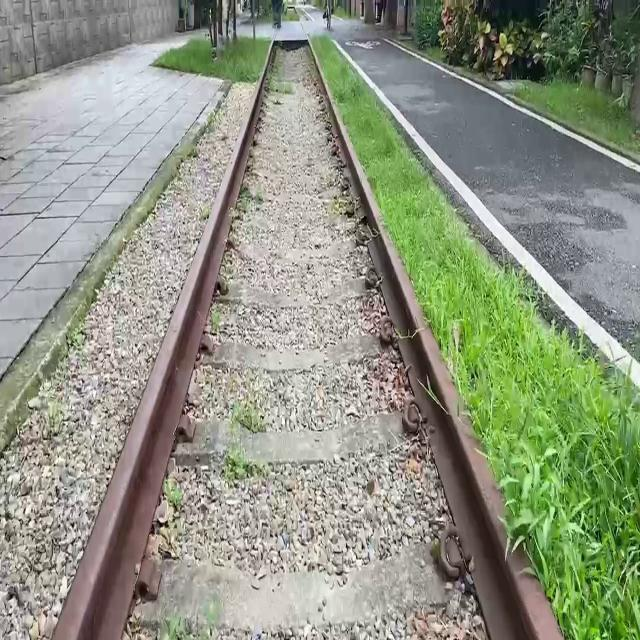rail-track: (128, 48, 485, 640)
